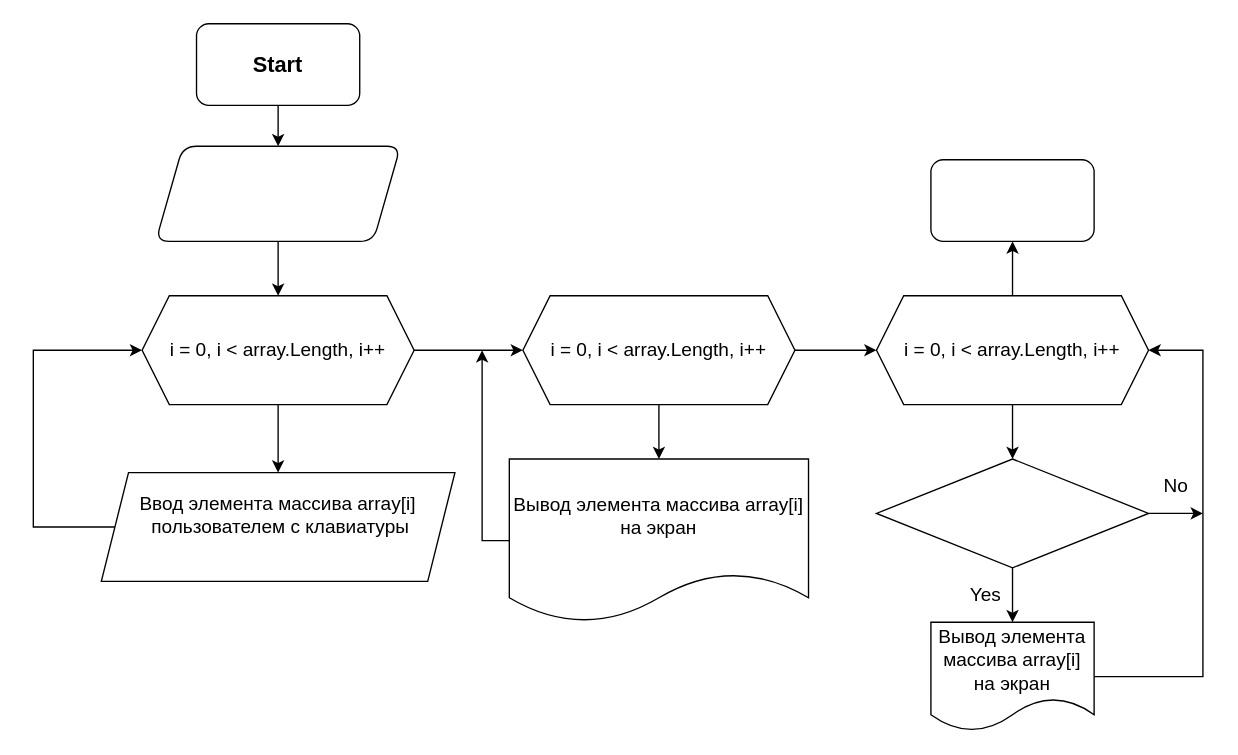
Some shapes in this 1238 by 755 pixel diagram are drawn without their labels. Each missing label, with the box of its shape:
End: (930, 158, 1094, 241)
if(array[i].Length <= 3 ): (875, 458, 1149, 568)
string[] array = new string [4]: (154, 145, 401, 241)
